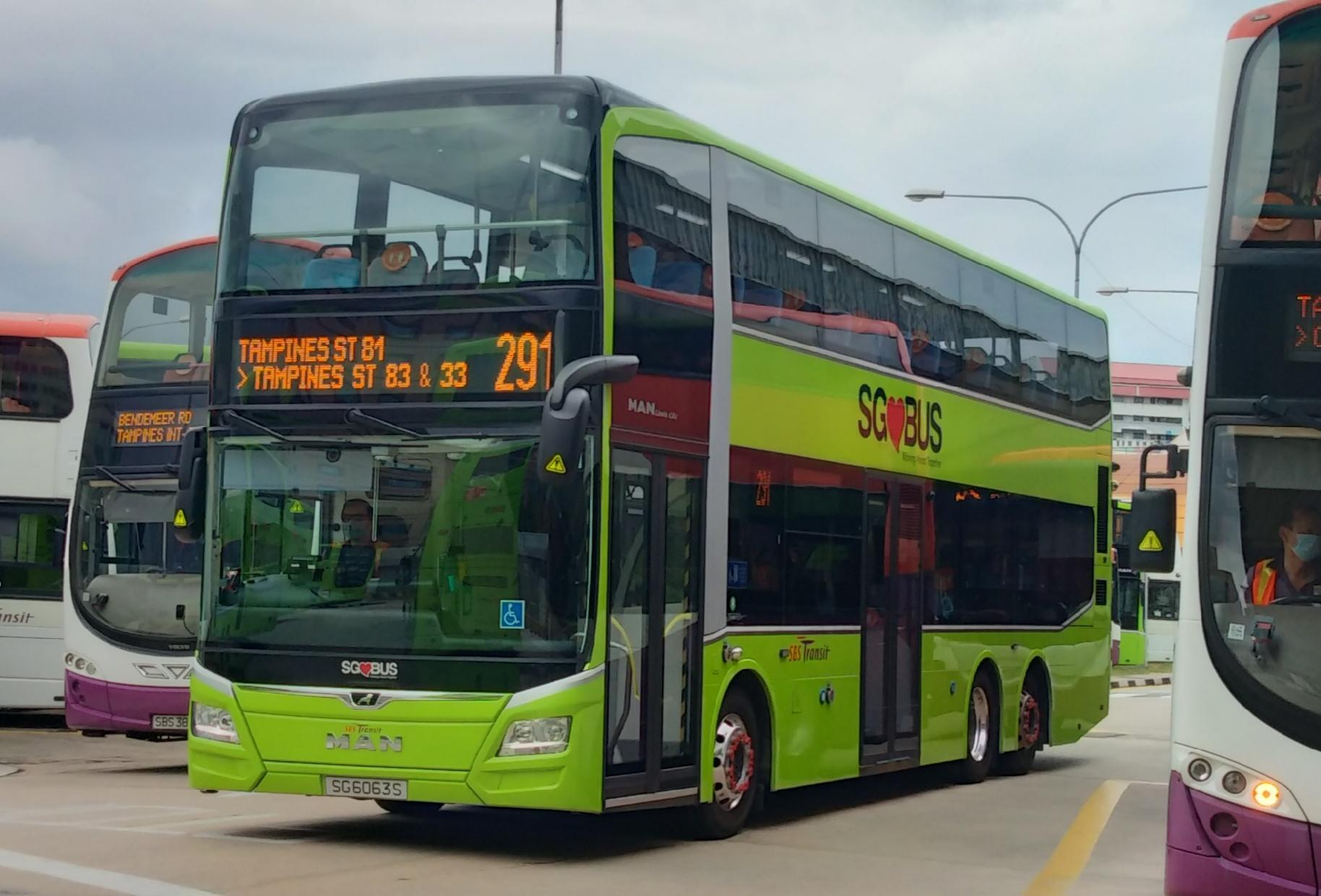Bus: (186, 76, 1116, 837)
